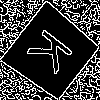K: (26, 26, 83, 82)
